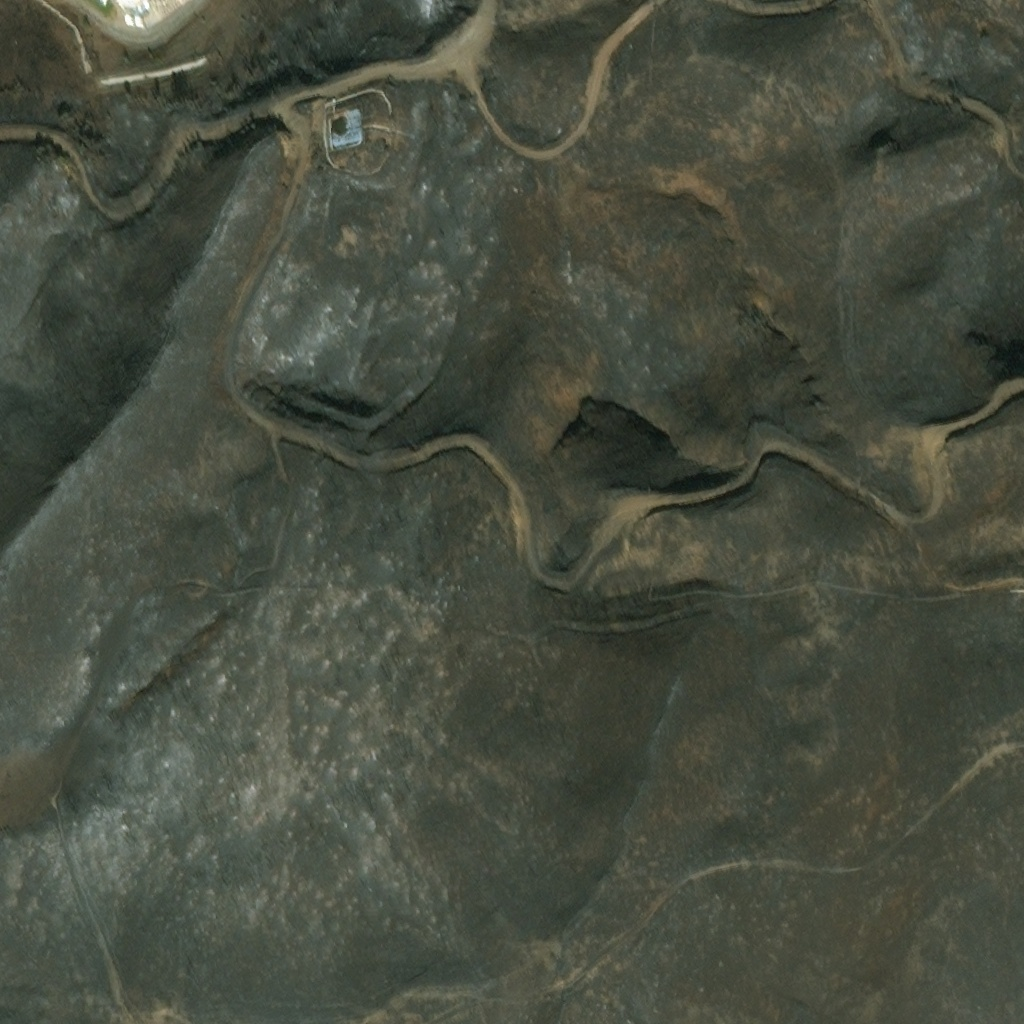3 destroyed: (329, 109, 364, 149)
